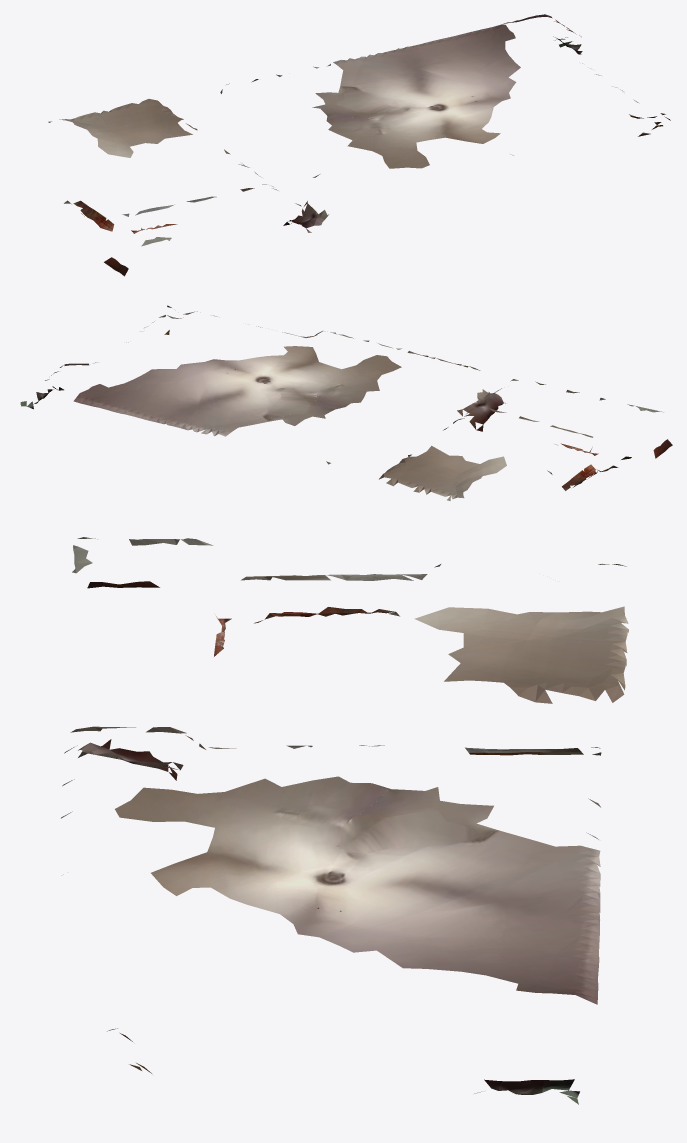
The model's file is esc_baja_techo_02.glb.
The picture shows the model from 3 angles, top to bottom: view 1: azimuth 30°, elevation 25°; view 2: azimuth 150°, elevation 25°; view 3: azimuth 270°, elevation 25°; orthographic projection. The views are drawn at different scales.
Visible parts, largest first — view 1: techo_Planta_principal_2_GLTF_1, techo_Planta_principal_2_GLTF_8, techo_Planta_principal_2_GLTF_2, techo_Planta_principal_2_GLTF_15, techo_Planta_principal_2_GLTF_3; view 2: techo_Planta_principal_2_GLTF_1, techo_Planta_principal_2_GLTF_8, techo_Planta_principal_2_GLTF_2, techo_Planta_principal_2_GLTF_15, techo_Planta_principal_2_GLTF_3; view 3: techo_Planta_principal_2_GLTF_1, techo_Planta_principal_2_GLTF_8, techo_Planta_principal_2_GLTF_15, techo_Planta_principal_2_GLTF_2, techo_Planta_principal_2_GLTF_3, techo_Planta_principal_2_GLTF_6, techo_Planta_principal_2_GLTF_5.
Part boxes in pixels (bbox=[...]): techo_Planta_principal_2_GLTF_1: bbox=[327, 24, 520, 168]; techo_Planta_principal_2_GLTF_8: bbox=[59, 99, 192, 157]; techo_Planta_principal_2_GLTF_2: bbox=[122, 74, 328, 233]; techo_Planta_principal_2_GLTF_15: bbox=[312, 86, 364, 120]; techo_Planta_principal_2_GLTF_3: bbox=[73, 99, 639, 231]; techo_Planta_principal_2_GLTF_1: bbox=[73, 305, 401, 436]; techo_Planta_principal_2_GLTF_8: bbox=[379, 445, 506, 500]; techo_Planta_principal_2_GLTF_2: bbox=[408, 389, 634, 456]; techo_Planta_principal_2_GLTF_15: bbox=[269, 398, 343, 425]; techo_Planta_principal_2_GLTF_3: bbox=[152, 315, 595, 490]; techo_Planta_principal_2_GLTF_1: bbox=[115, 776, 600, 1004]; techo_Planta_principal_2_GLTF_8: bbox=[414, 606, 628, 703]; techo_Planta_principal_2_GLTF_15: bbox=[357, 783, 498, 834]; techo_Planta_principal_2_GLTF_2: bbox=[78, 616, 600, 807]; techo_Planta_principal_2_GLTF_3: bbox=[216, 574, 427, 645]; techo_Planta_principal_2_GLTF_6: bbox=[77, 537, 626, 616]; techo_Planta_principal_2_GLTF_5: bbox=[61, 726, 558, 818].
Size of the model in its own units: 8.28 by 0.6093 by 3.82.
Materials: 14 (14 with a texture image).
